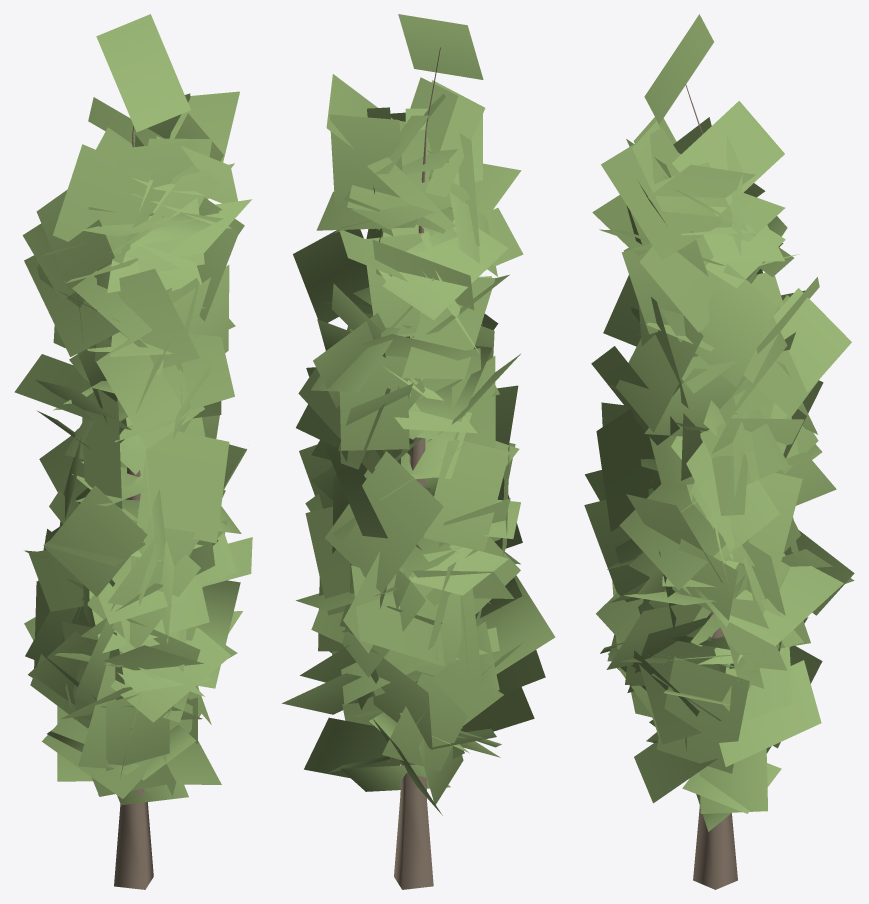
Rendered from Poplar_2_lod2.glb.
3 renders of one model, left to right at view 1: azimuth 30°, elevation 25°; view 2: azimuth 150°, elevation 25°; view 3: azimuth 270°, elevation 25°, orthographic. The views are drawn at different scales.
Parts seen in each view (by area): view 1: Poplar_2_lod2; view 2: Poplar_2_lod2; view 3: Poplar_2_lod2.
Part boxes in pixels (bbox=[...]): Poplar_2_lod2: bbox=[14, 14, 252, 889]; Poplar_2_lod2: bbox=[282, 14, 555, 889]; Poplar_2_lod2: bbox=[584, 14, 854, 889].
Size of the model in its own units: 6.22 by 23.59 by 6.84.
